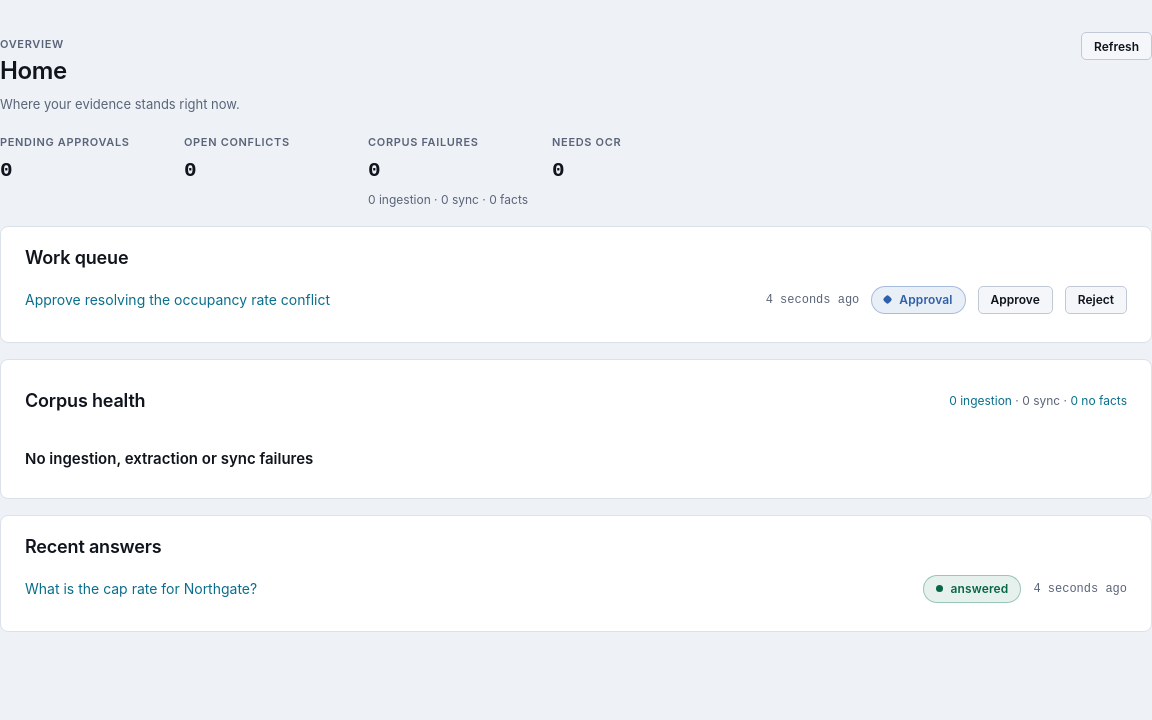
Test: HomePage › drops a superseded load, so a slow refresh never restores a decided row
expect the list item "Approve resolving the occupancy rate conflict" is shown: met, box top-left (25, 289), bottom-right (330, 311)
Click the button "Refresh" at (1116, 46), box top-left (1081, 32), bottom-right (1151, 60)
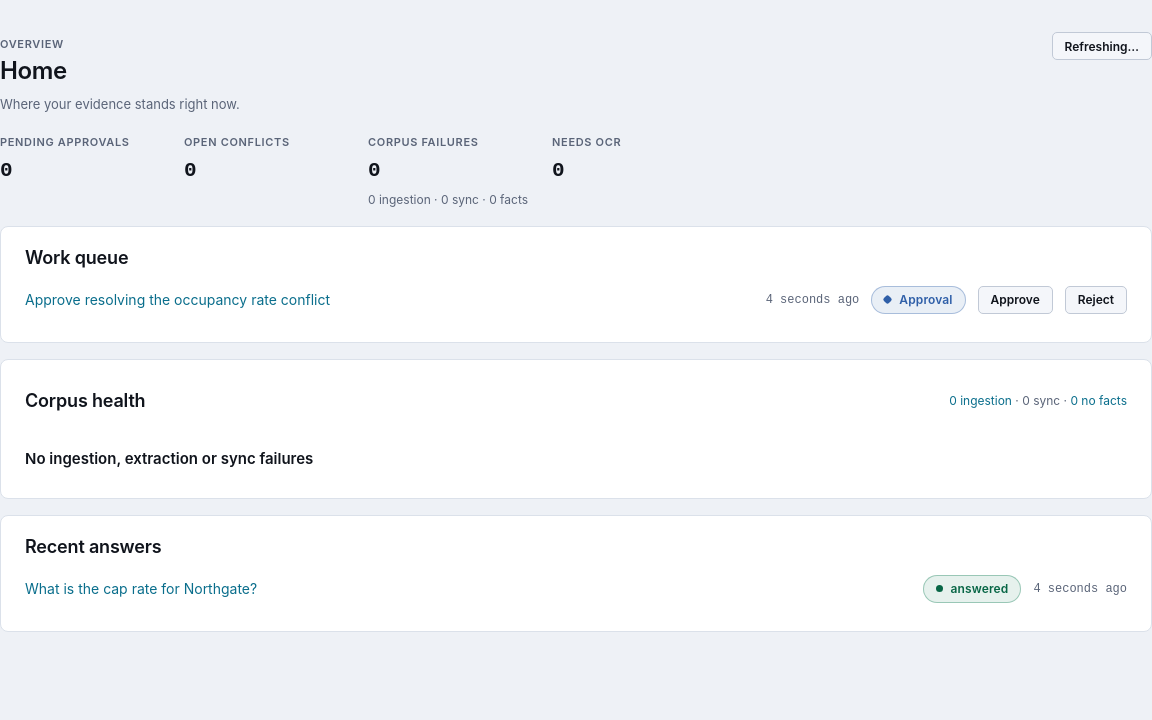
expect the button "Refreshing…" is shown: met, box top-left (1052, 32), bottom-right (1151, 60)
Click the button with aria-label "Approve, Approve resolving the occupancy rate conflict" at (1015, 300), box top-left (978, 286), bottom-right (1053, 314)
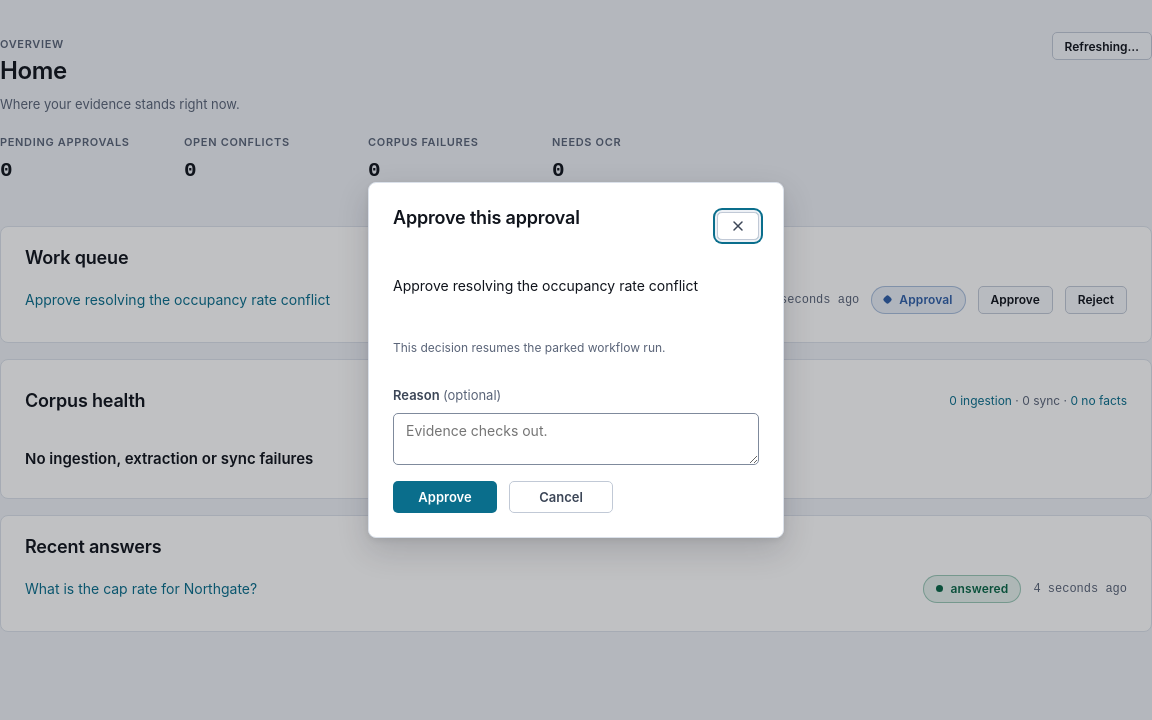
Click the button "Approve" at (445, 498), box top-left (393, 482), bottom-right (497, 514)
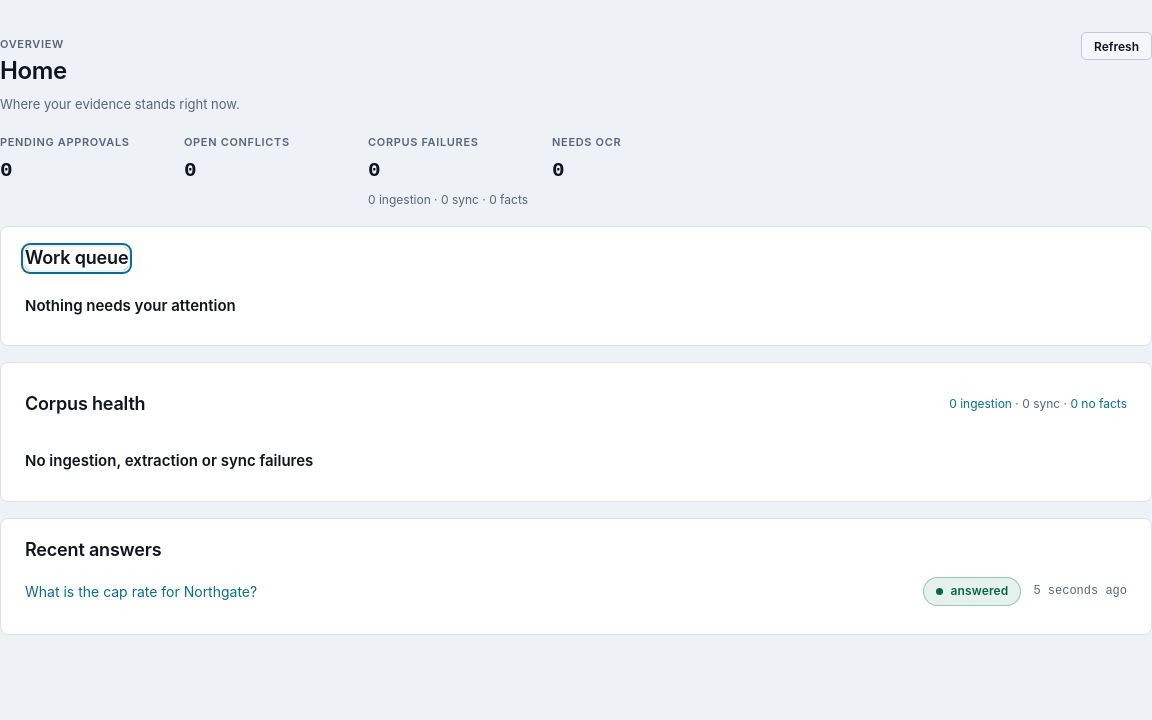
expect the link "Approve resolving the occupancy rate conflict" is gone: met
